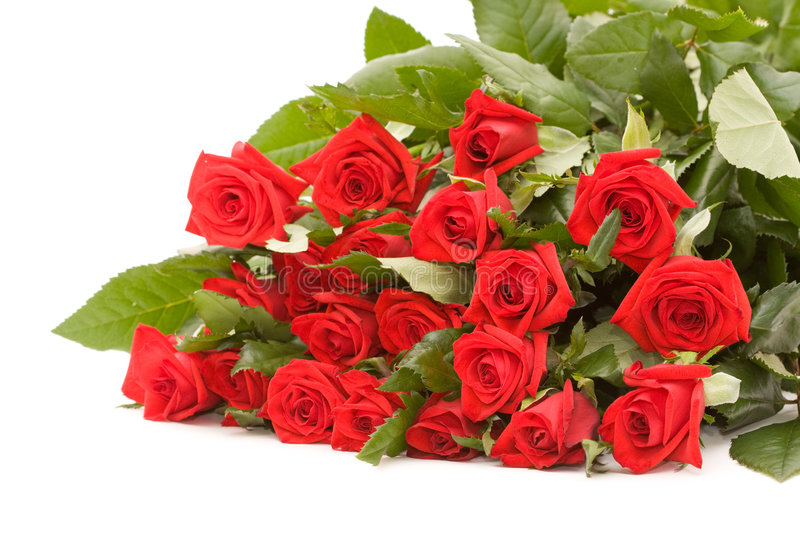RedRose: (165, 135, 304, 252), (309, 96, 425, 220), (616, 255, 743, 356), (571, 158, 694, 254), (260, 373, 379, 457), (430, 88, 542, 175), (474, 251, 591, 327), (418, 182, 513, 270), (625, 357, 696, 468), (515, 384, 593, 464), (465, 335, 544, 409), (291, 305, 373, 371), (324, 233, 406, 292), (414, 396, 482, 462), (381, 290, 452, 348), (124, 332, 168, 419), (259, 263, 335, 309), (202, 342, 265, 397)
